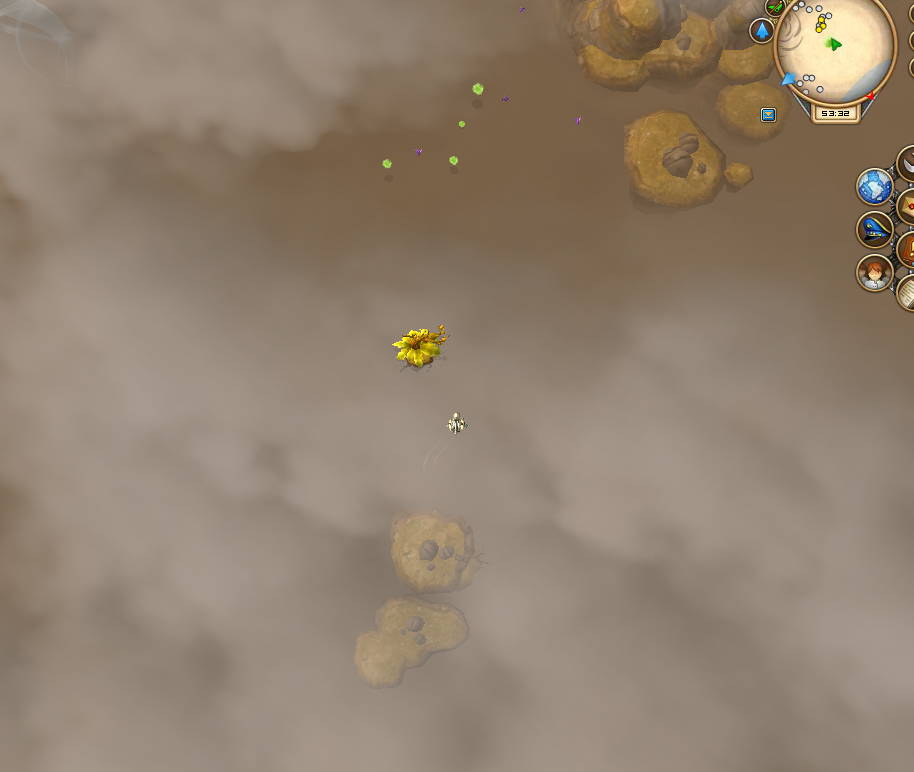dandelion-empty: (390, 321, 452, 370)
fluff: (468, 78, 487, 98), (453, 115, 468, 130), (380, 155, 394, 171), (446, 153, 460, 168)
